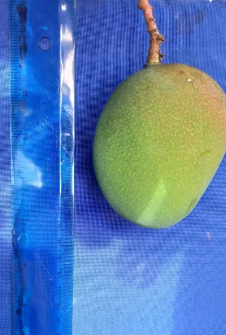Mango-sano: (93, 64, 225, 228)
